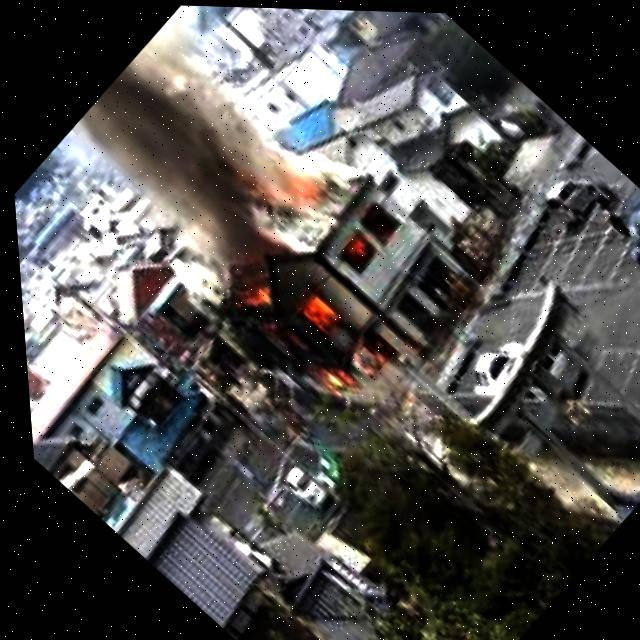Fire: (211, 233, 405, 417), (332, 230, 381, 278)
Smoke: (57, 1, 365, 296)
